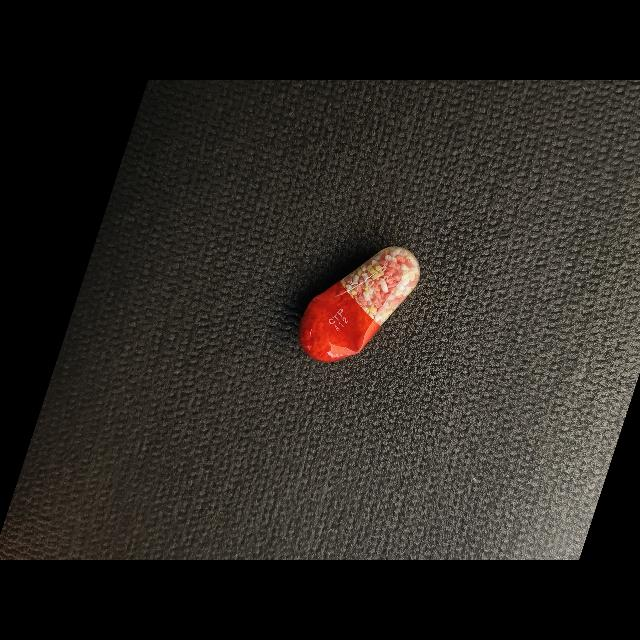Defective Capsule: (299, 246, 420, 362)
